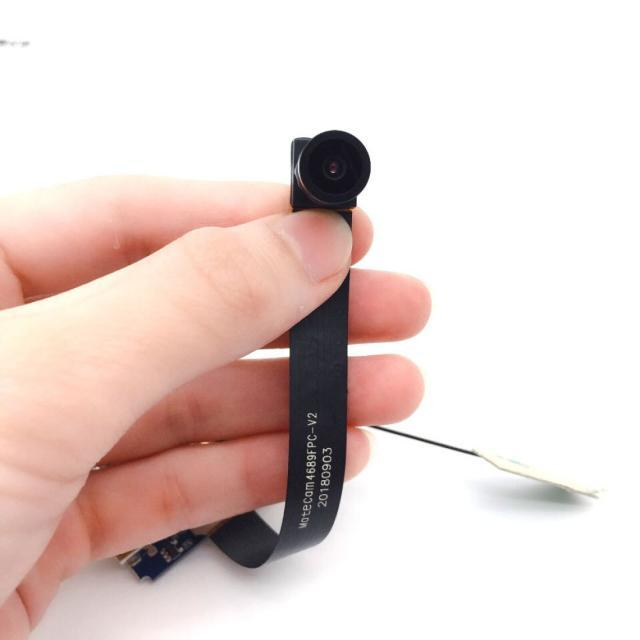hidden camera: (283, 127, 380, 213)
